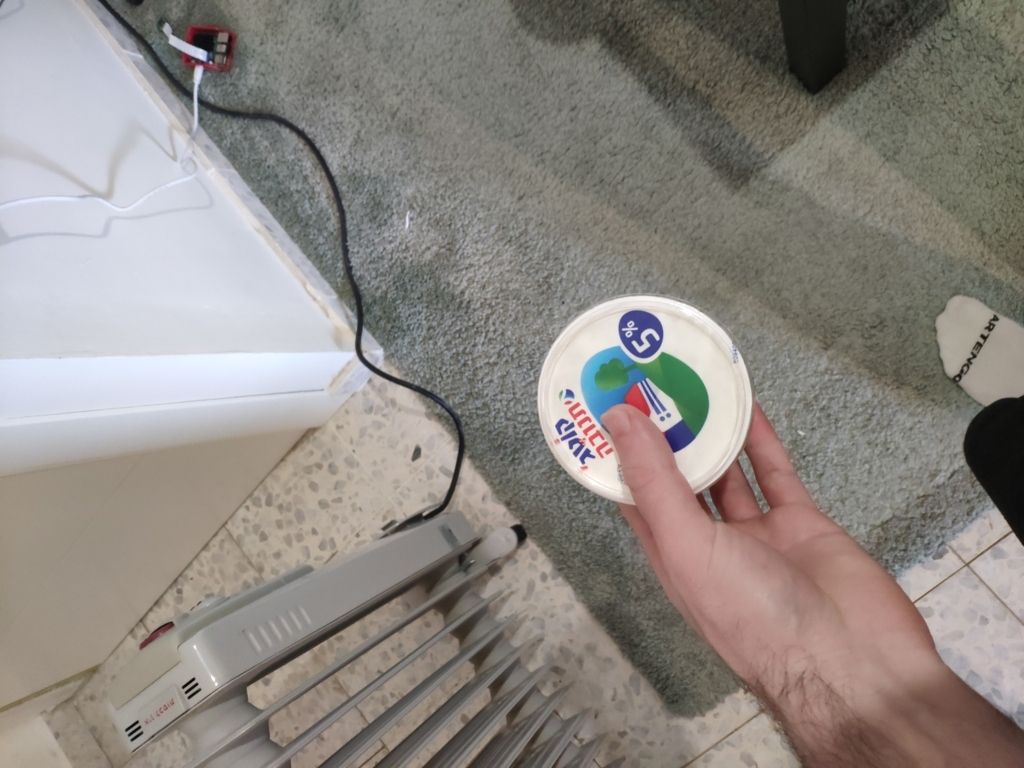Cotage: (545, 305, 745, 504)
